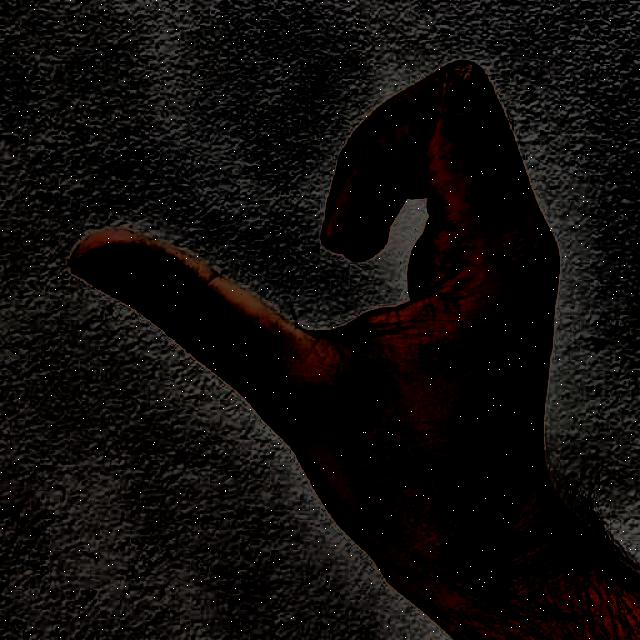Kha: (34, 22, 598, 610)
